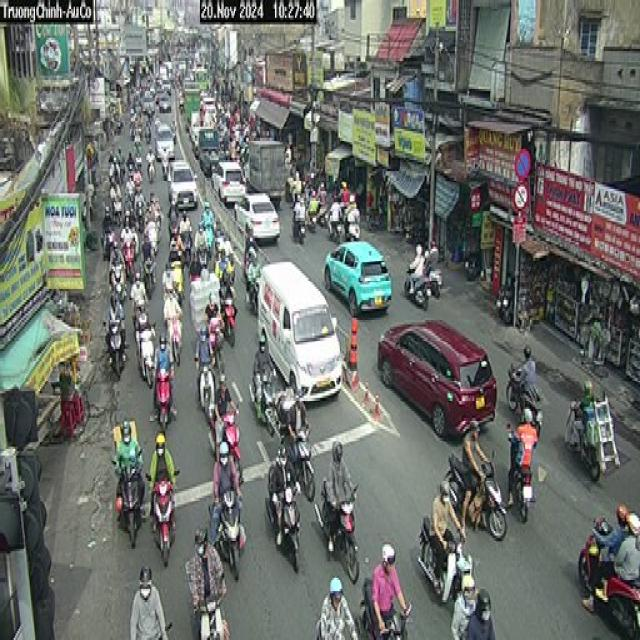motorcycle: (572, 522, 640, 638), (443, 446, 510, 548), (418, 513, 474, 606), (317, 480, 362, 585), (358, 576, 415, 640), (270, 480, 308, 574), (115, 457, 148, 553), (218, 483, 248, 584), (148, 476, 179, 567), (507, 466, 534, 528), (198, 591, 230, 640), (152, 366, 174, 434), (403, 260, 432, 310)
person: (124, 561, 170, 640), (372, 538, 404, 622), (189, 526, 223, 598), (321, 573, 355, 640), (428, 476, 456, 555), (325, 434, 355, 506), (510, 405, 540, 475), (148, 432, 178, 492), (605, 495, 630, 565), (462, 418, 482, 497), (211, 443, 240, 494), (617, 513, 640, 575), (115, 414, 140, 466), (274, 448, 294, 491), (412, 243, 424, 282)
